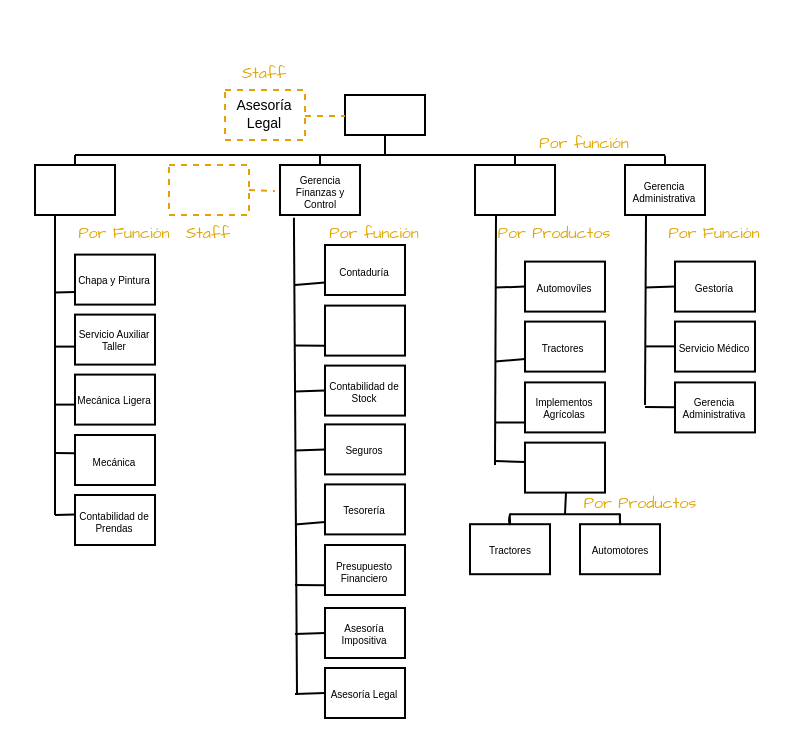
This 810x752 diagram has some shape labels left out. Each missing label, with the centre of its shape:
Gerencia de Compras: point 514,189
Gerencia General: point 384,114
Gerencia Taller: point 74,189
Profesional de Cs. Económicas: point 208,189
Tasadores: point 564,467
Ventas: point 364,330
